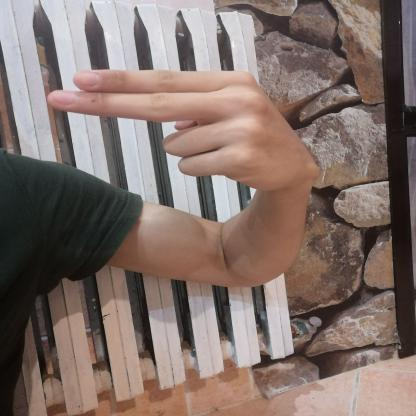AYN: (37, 60, 324, 201)
